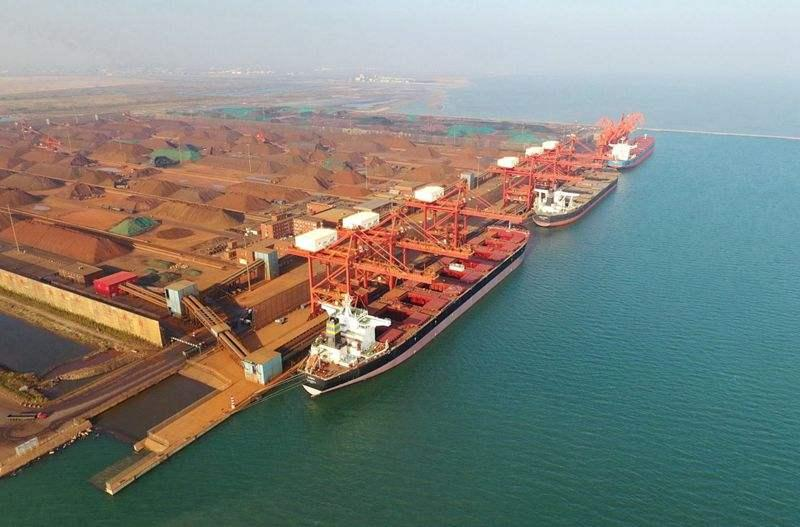Cargoship: (304, 220, 531, 398), (527, 154, 620, 227), (602, 128, 658, 165)
